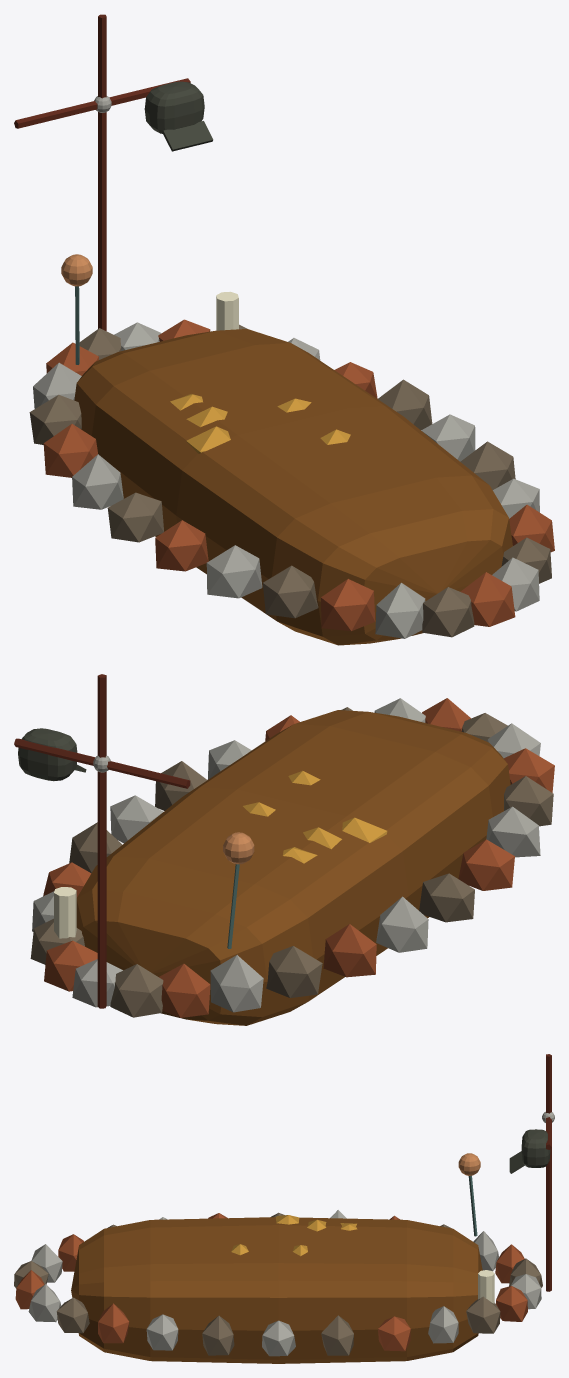
Rendered from grave_cross.glb.
3 views of the same model, one above another, from view 1: azimuth 30°, elevation 25°; view 2: azimuth 150°, elevation 25°; view 3: azimuth 270°, elevation 25° (orthographic). The views are drawn at different scales.
Visible parts, largest first — view 1: grave_cross; view 2: grave_cross; view 3: grave_cross.
Boxes of the visible parts, x1=… form: grave_cross: x1=14, y1=14, x2=554, y2=645; grave_cross: x1=14, y1=674, x2=554, y2=1025; grave_cross: x1=14, y1=1054, x2=554, y2=1363.
Bounding box in the file's own units: 1.43 × 1.5 × 2.61.
